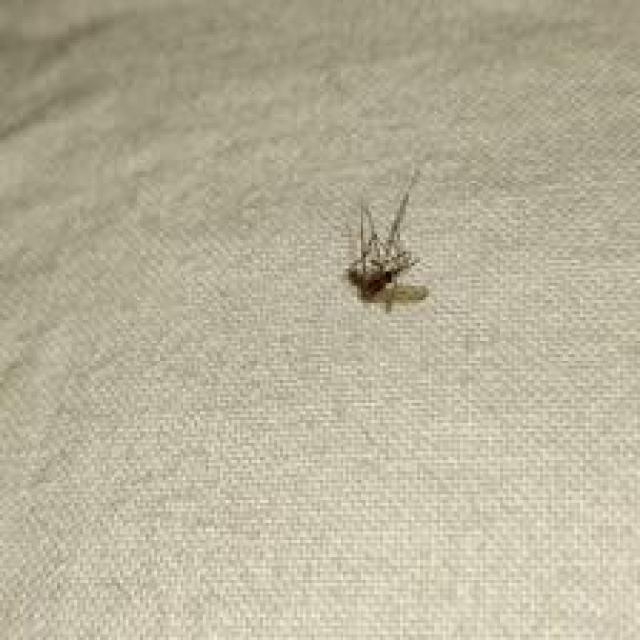Culex: (340, 169, 431, 314)
